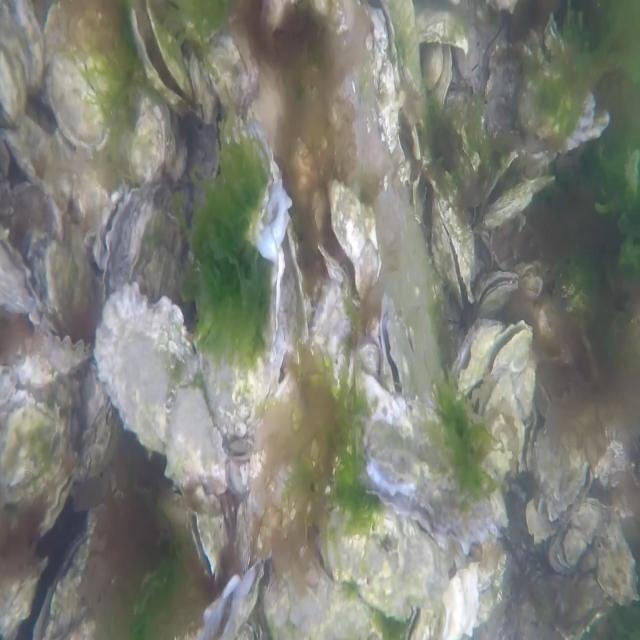Oyster-Closed: (43, 0, 129, 151), (483, 173, 558, 232), (38, 465, 79, 540), (40, 324, 94, 374)
Oyster-Indeterminate: (95, 280, 231, 492), (320, 508, 451, 622), (0, 397, 78, 510), (9, 112, 77, 214), (0, 0, 45, 120), (43, 232, 98, 325), (127, 96, 170, 182)
Oyster-Open: (364, 402, 501, 556), (204, 30, 293, 262), (33, 528, 113, 639), (314, 174, 381, 306), (130, 0, 195, 105), (475, 317, 534, 418), (431, 198, 479, 309), (273, 212, 308, 352), (448, 315, 506, 392), (94, 176, 140, 270), (0, 218, 44, 315), (380, 293, 413, 399), (188, 506, 228, 581), (476, 268, 520, 310)
